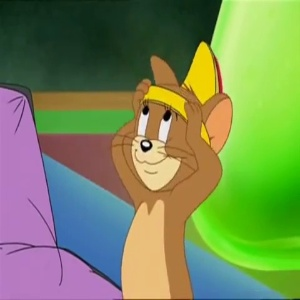Jerry: (112, 52, 211, 191)
